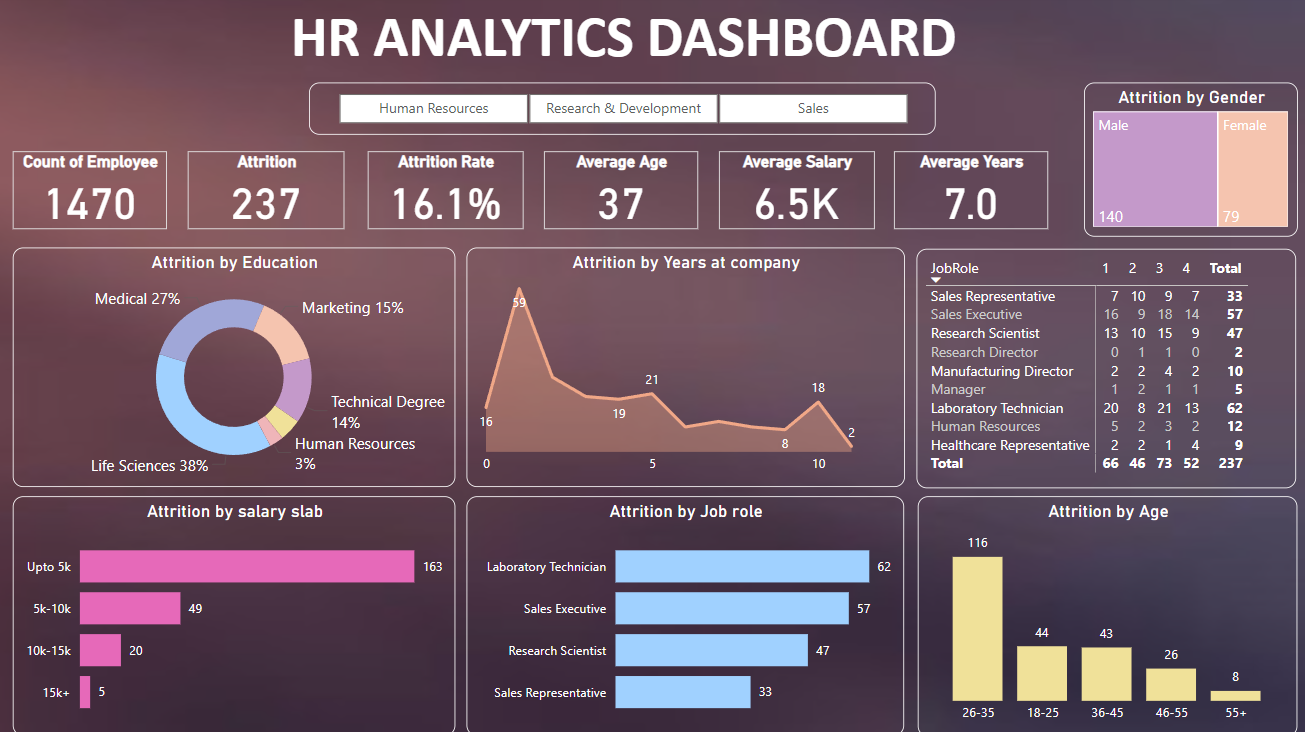

Layout of this report page (visuals, bound fields, positions):
{"tool":"powerbi","page":{"name":"Page 1","canvas":[1280,720],"ordinal":0},"visuals":[{"type":"card","title":"Count of Employee","fields":{"Values":["CountNonNull(HR_Analytics.EmpID)"]},"box":[22.5,151.2,148.8,75],"z":0},{"type":"card","title":"Average Age","fields":{"Values":["Avg(HR_Analytics.Age)"]},"box":[536.2,151.2,148.8,75],"z":1000},{"type":"card","title":"Attrition Rate","fields":{"Values":["HR_Analytics.Attrition_rate"]},"box":[365,151.2,150,75],"z":2000},{"type":"card","title":"Attrition","fields":{"Values":["Sum(HR_Analytics.Attrition_count)"]},"box":[191.2,151.2,151.2,75],"z":3000},{"type":"card","title":"Average Salary","fields":{"Values":["Avg(HR_Analytics.MonthlyIncome)"]},"box":[705,151.2,150,75],"z":4000},{"type":"card","title":"Average Years","fields":{"Values":["Avg(HR_Analytics.YearsAtCompany)"]},"box":[873.8,151.2,148.8,75],"z":5000},{"type":"donutChart","title":"Attrition by Education","fields":{"Category":["HR_Analytics.EducationField"],"Y":["Sum(HR_Analytics.Attrition_count)"]},"box":[22.9,244.3,427.1,231.4],"z":6000},{"type":"columnChart","title":"Attrition by Age","fields":{"Category":["HR_Analytics.AgeGroup"],"Y":["Sum(HR_Analytics.Attrition_count)"]},"box":[895.8,484.2,366.7,231.7],"z":7000},{"type":"barChart","title":"Attrition by salary slab","fields":{"Category":["HR_Analytics.SalarySlab"],"Y":["Sum(HR_Analytics.Attrition_count)"]},"box":[22.5,483.8,427.5,231.2],"z":8000},{"type":"barChart","title":"Attrition by Job role","fields":{"Category":["HR_Analytics.JobRole"],"Y":["Sum(HR_Analytics.Attrition_count)"]},"box":[461.2,483.8,422.5,231.2],"z":9000},{"type":"areaChart","title":"Attrition by Years at company","fields":{"Category":["HR_Analytics.YearsAtCompany"],"Y":["Sum(HR_Analytics.Attrition_count)"]},"box":[461.4,244.3,422.9,231.4],"z":10000},{"type":"treemap","title":"Attrition by Gender","fields":{"Group":["HR_Analytics.Gender"],"Values":["Sum(HR_Analytics.Attrition_count)"]},"box":[1056.2,85,206.2,148.8],"z":11000},{"type":"slicer","title":"Department","fields":{"Values":["HR_Analytics.Department"]},"box":[308.8,85,605,50],"z":12000},{"type":"textbox","box":[168.8,0,887.5,85],"z":13000},{"type":"pivotTable","fields":{"Rows":["HR_Analytics.JobRole"],"Columns":["HR_Analytics.JobSatisfaction"],"Values":["Sum(HR_Analytics.Attrition_count)"]},"box":[895.6,244.4,366.7,231.1],"z":14000}]}

Visuals, with their boxes in screenshot pixels (x1, y1, x2, y2), scaled from the page's 1280x720 canvas onto the 1305x732 screenshot:
"Count of Employee" card: detection(23, 154, 175, 230)
"Average Age" card: detection(547, 154, 698, 230)
"Attrition Rate" card: detection(372, 154, 525, 230)
"Attrition" card: detection(195, 154, 349, 230)
"Average Salary" card: detection(719, 154, 872, 230)
"Average Years" card: detection(891, 154, 1043, 230)
"Attrition by Education" donutChart: detection(23, 248, 459, 484)
"Attrition by Age" columnChart: detection(913, 492, 1287, 728)
"Attrition by salary slab" barChart: detection(23, 492, 459, 727)
"Attrition by Job role" barChart: detection(470, 492, 901, 727)
"Attrition by Years at company" areaChart: detection(470, 248, 902, 484)
"Attrition by Gender" treemap: detection(1077, 86, 1287, 238)
"Department" slicer: detection(315, 86, 932, 137)
textbox: detection(172, 0, 1077, 86)
pivotTable - HR_Analytics.JobRole x HR_Analytics.JobSatisfaction: detection(913, 248, 1287, 483)
